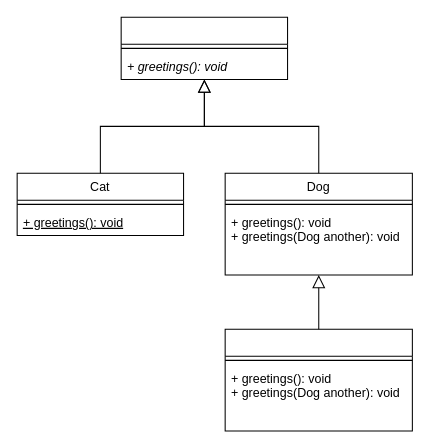
Some shapes in this 430 by 448 pixel diagram are drawn without their labels. The shapes that lost their labels are listed below. From the top down, each one's box as (x1, y1, x2, y2) in pixels, then its label:
(120, 16, 288, 80): Animal
(224, 328, 412, 431): BigDog
